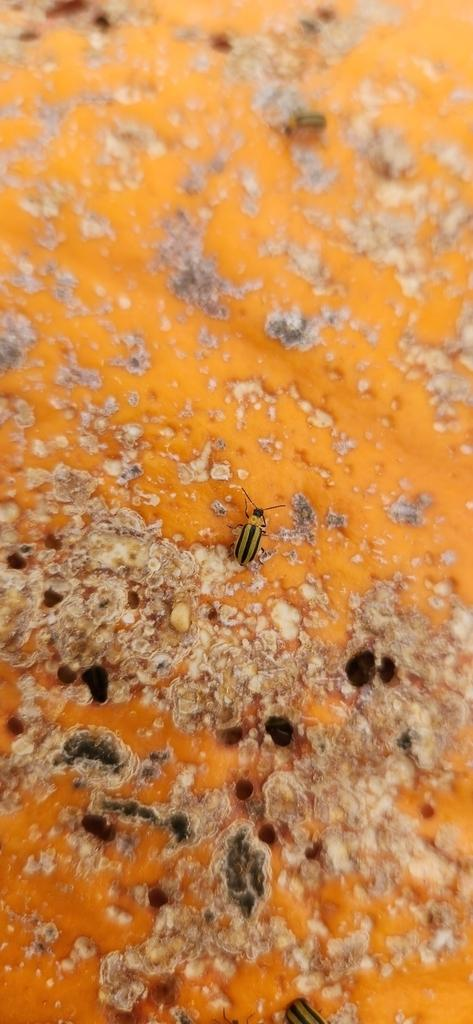potato_beetle: (204, 473, 304, 590)
